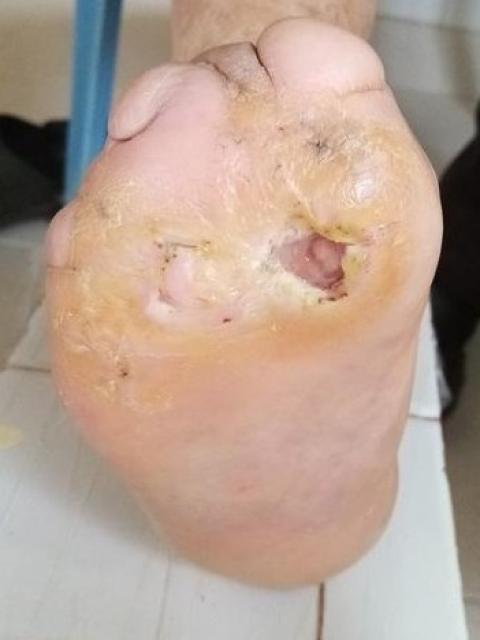wound: (262, 207, 365, 308), (149, 239, 198, 312)
